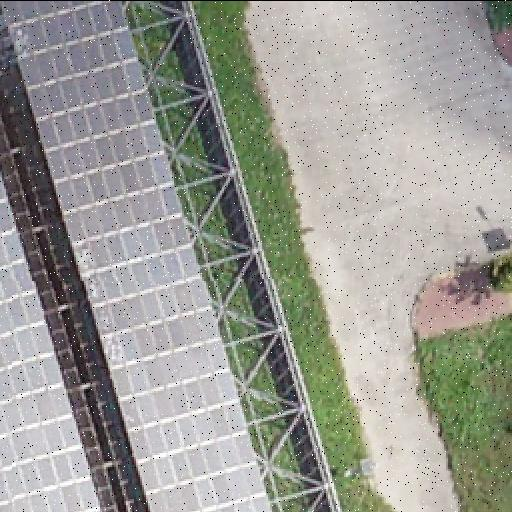solar-panel: (0, 0, 268, 512), (1, 164, 103, 512)
